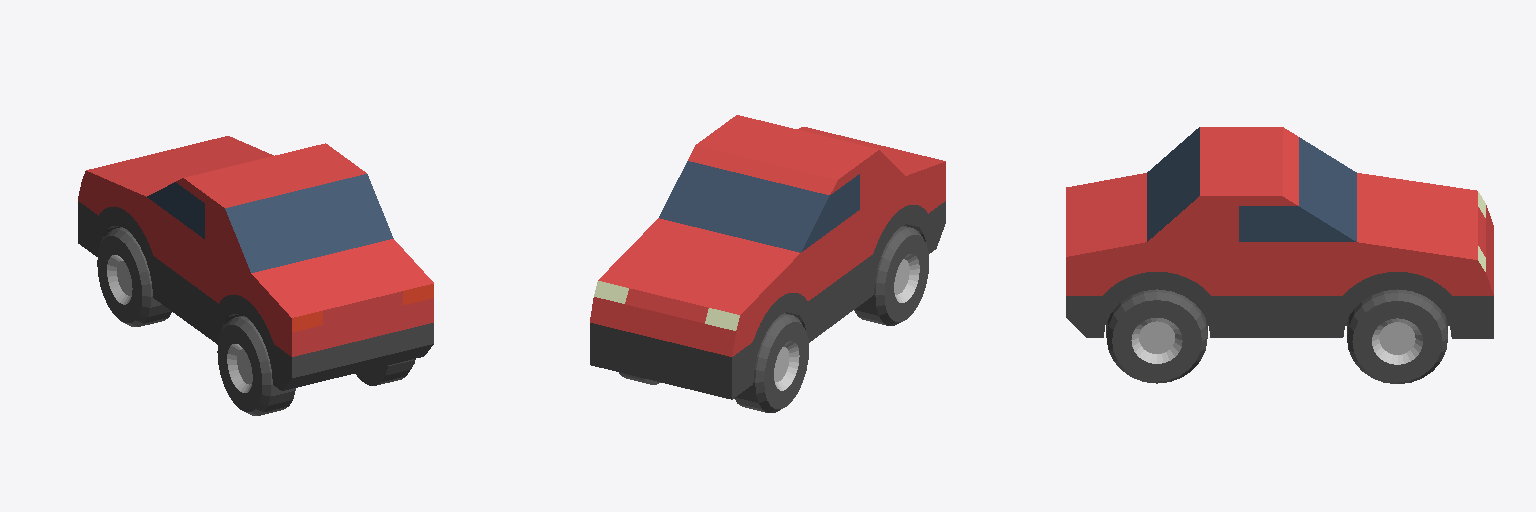
File: carSedan.obj
3 renders of one model, left to right at view 1: azimuth 30°, elevation 25°; view 2: azimuth 150°, elevation 25°; view 3: azimuth 270°, elevation 25°, orthographic.
Parts seen in each view (by area): view 1: body_7.004, wheelBackLeft_7.001, wheelFrontLeft_7.001, wheelBackRight_7.001; view 2: body_7.004, wheelBackLeft_7.001, wheelFrontLeft_7.001; view 3: body_7.004, wheelFrontRight_7.001, wheelBackRight_7.001.
Boxes of the visible parts, box(x1,y1,x2,y2) form: body_7.004: box(78, 136, 433, 390); wheelBackLeft_7.001: box(217, 316, 295, 415); wheelFrontLeft_7.001: box(97, 227, 171, 326); wheelBackRight_7.001: box(355, 359, 415, 385); body_7.004: box(590, 115, 945, 399); wheelBackLeft_7.001: box(854, 226, 928, 325); wheelFrontLeft_7.001: box(734, 313, 808, 412); body_7.004: box(1066, 127, 1493, 338); wheelFrontRight_7.001: box(1347, 289, 1447, 383); wheelBackRight_7.001: box(1106, 289, 1207, 383).
Bounding box in the file's own units: 0.99 × 1.15 × 2.37.